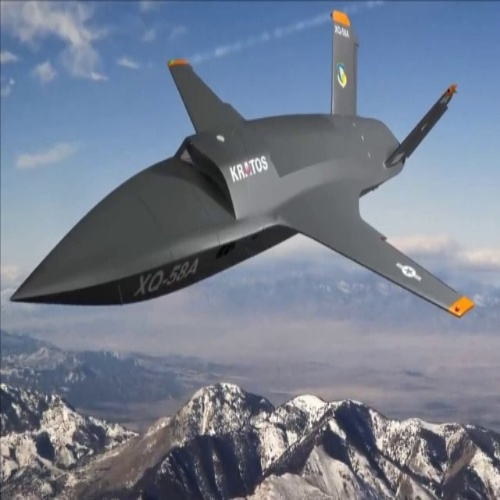uav: (7, 7, 483, 324)
